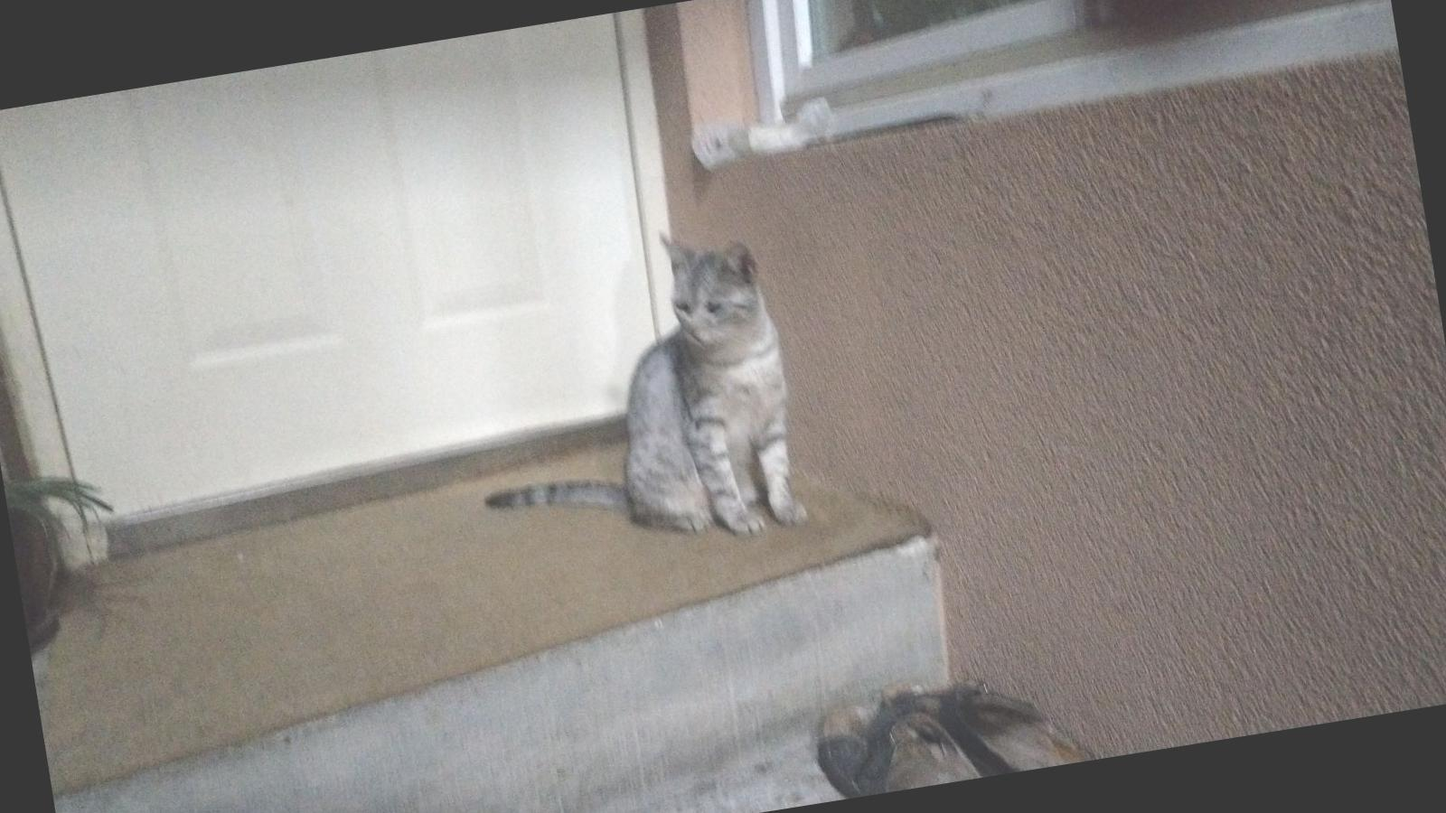macka: (448, 216, 808, 577)
